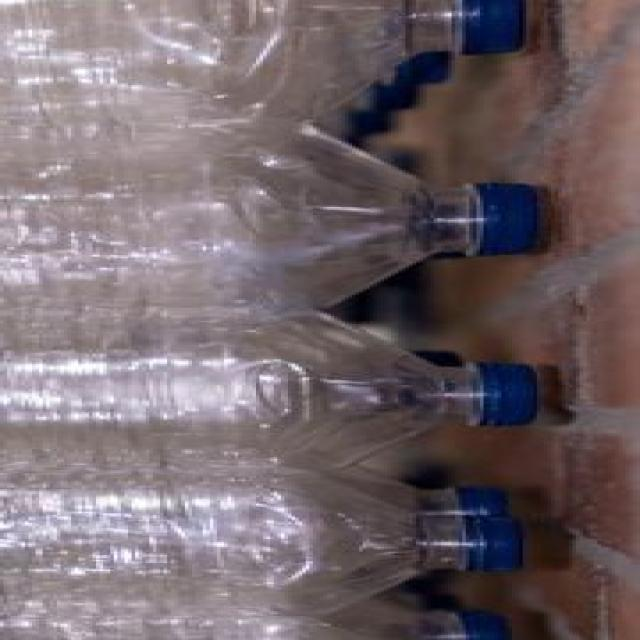general: (0, 112, 544, 342), (0, 459, 523, 638), (0, 345, 540, 430)
